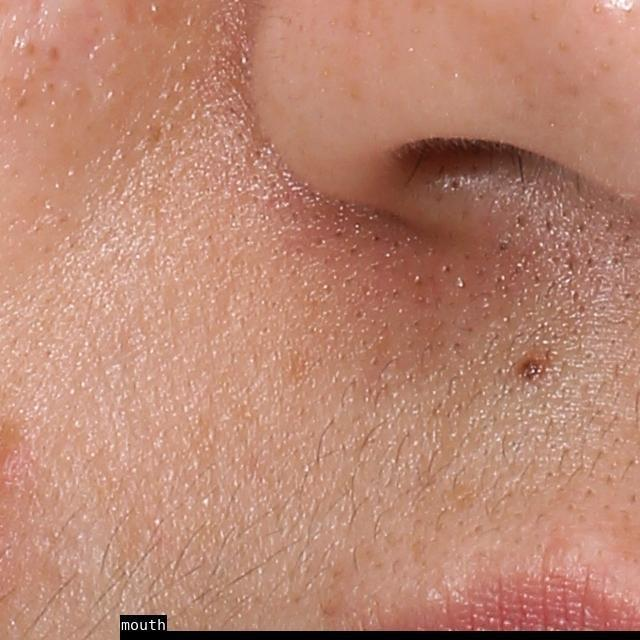nevus: (514, 354, 549, 386)
